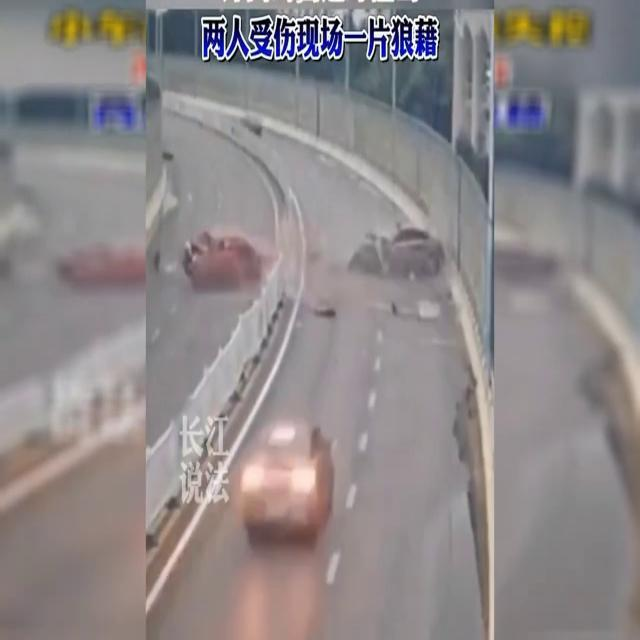multiple_accident: (150, 200, 488, 322)
